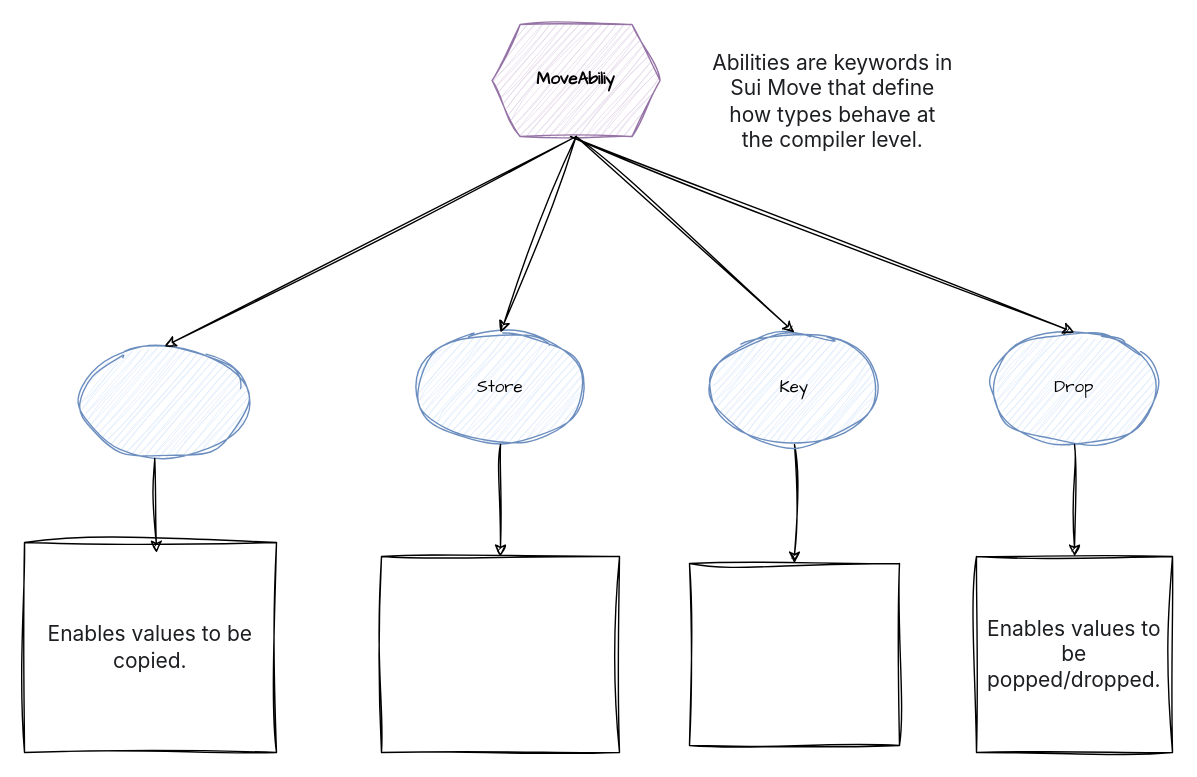
Some shapes in this 1197 by 777 pixel diagram are drawn without their labels. Each missing label, with the centre of its shape:
Copy: (163,401)
Enables values to be held directly in global storage.: (793,654)
Enables values to be held inside a struct in global storage.: (500,653)
